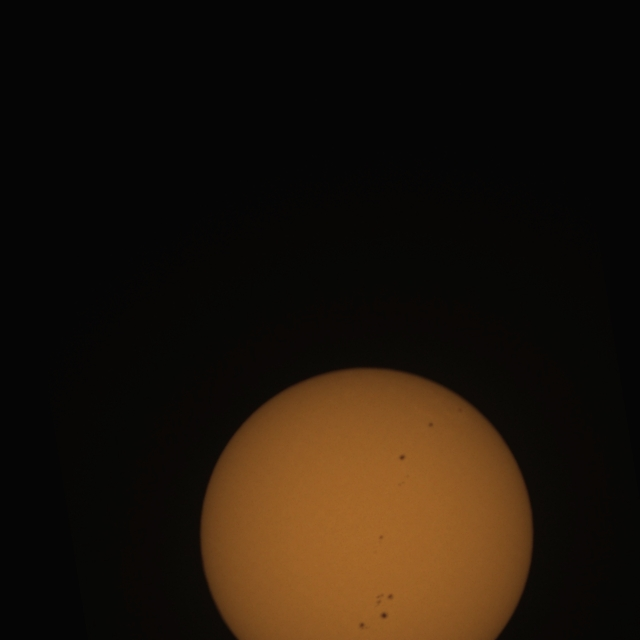sunspot: (375, 593, 395, 617), (398, 472, 411, 488), (358, 621, 369, 630), (380, 611, 389, 620), (398, 453, 407, 462), (386, 593, 394, 601), (397, 480, 405, 487), (378, 533, 385, 541), (427, 421, 434, 428), (457, 407, 464, 413)
